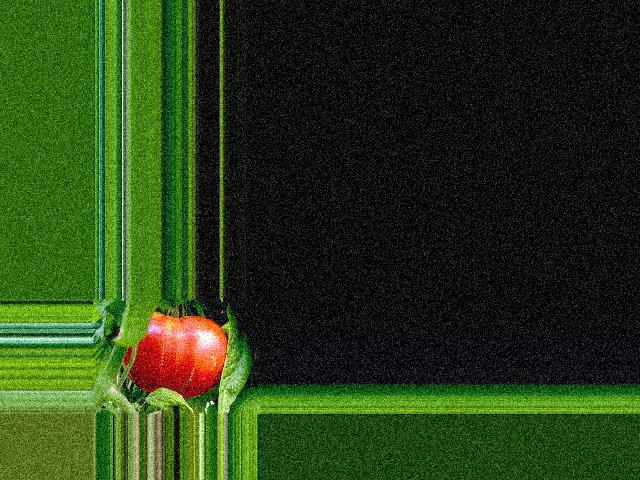tomato: (122, 311, 228, 397)
